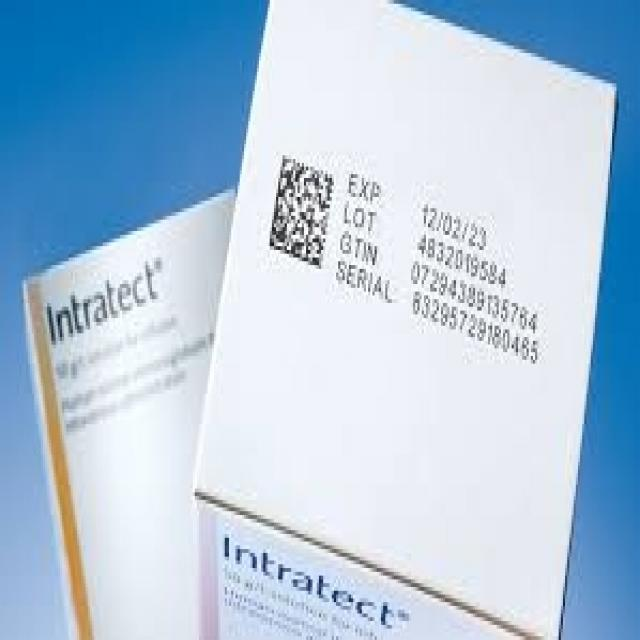datamatrix: (264, 145, 337, 277)
